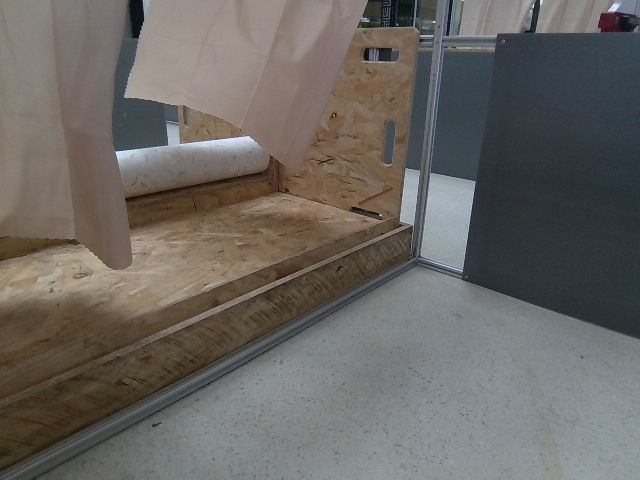curtain: (0, 0, 384, 264)
